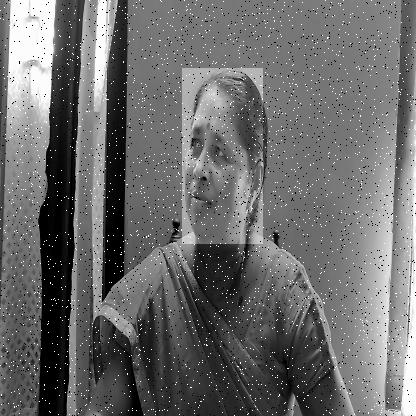Distracted: (182, 68, 263, 244)
